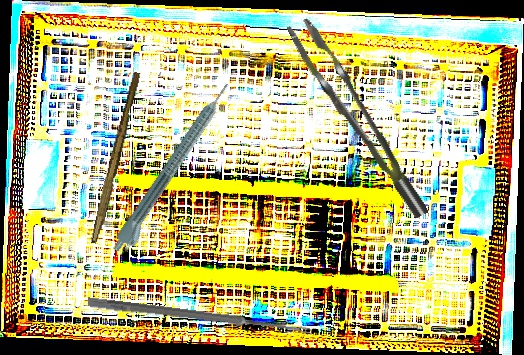Handpiece: (109, 80, 241, 259)
Scalpel Handle: (90, 70, 142, 246)
Surgical Spoon: (87, 297, 313, 336)
Tissue Forceps: (286, 7, 429, 233)
